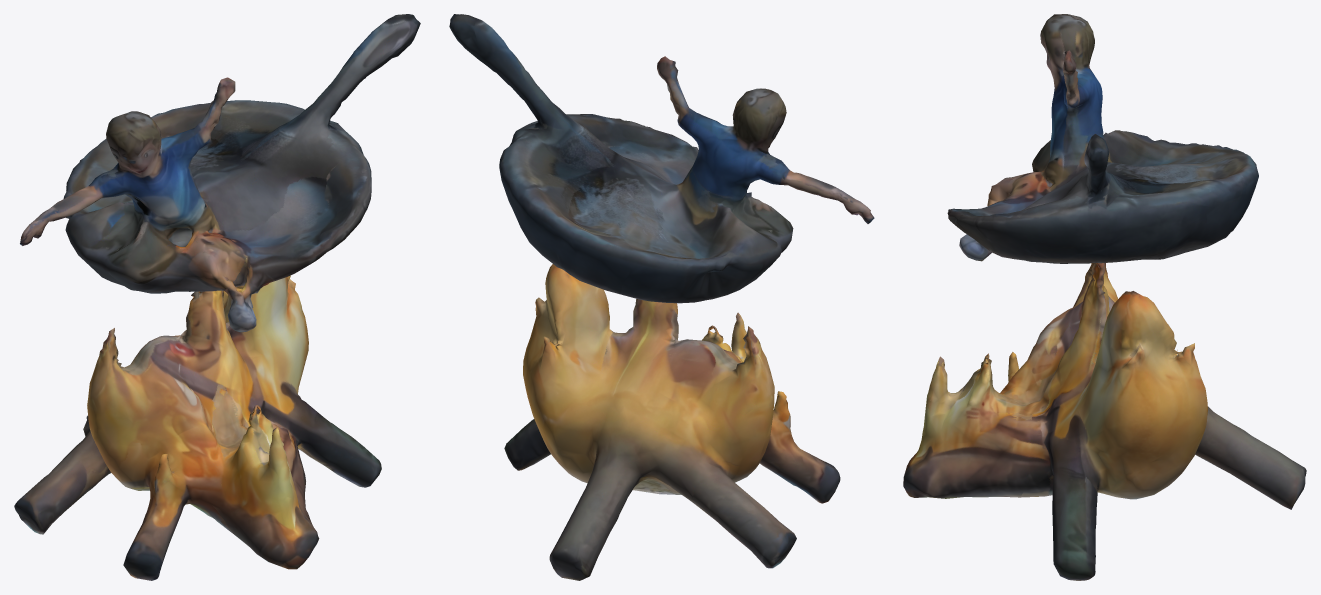
File: 01911710-0308-71b6-b9c9-5ebeeb41d1c8_glb.glb
3 renders of one model, left to right at view 1: azimuth 30°, elevation 25°; view 2: azimuth 150°, elevation 25°; view 3: azimuth 270°, elevation 25°, orthographic. The views are drawn at different scales.
Bounding box in the file's own units: 1.15 × 1.2 × 0.9389.
Materials: 1 (1 with a texture image).
